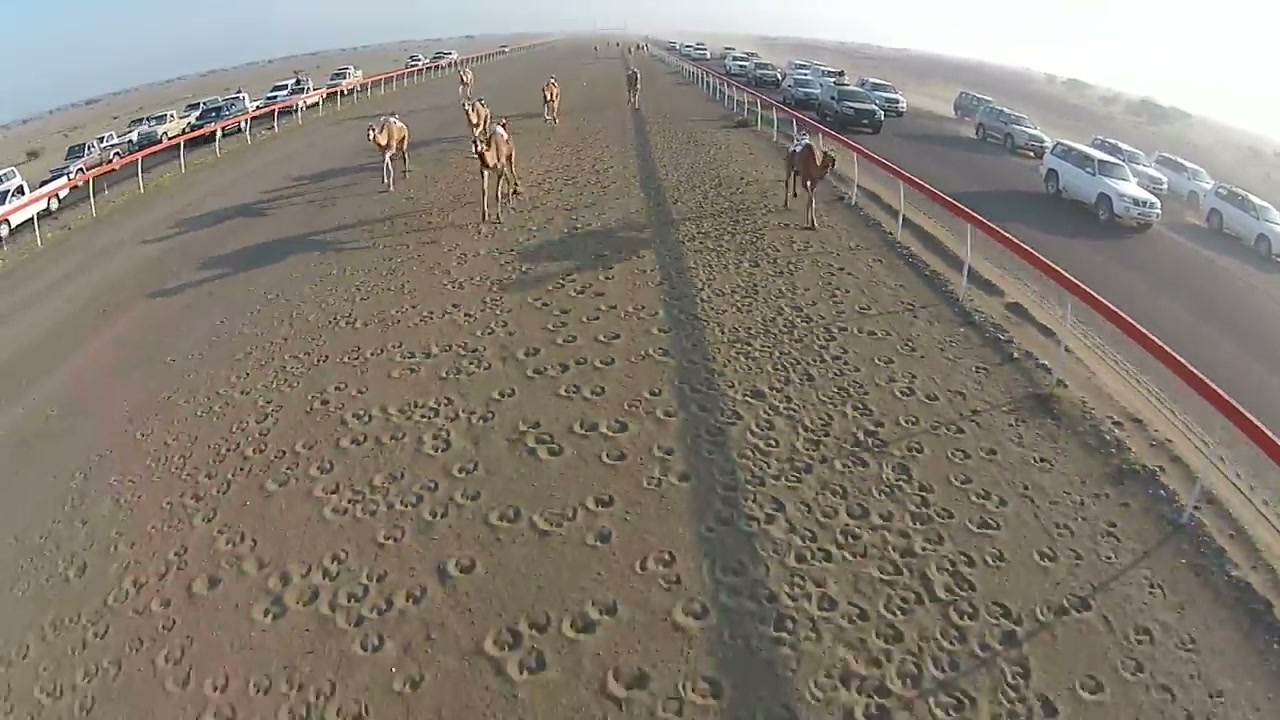animal_footprint: (0, 42, 1274, 718), (699, 241, 1115, 706), (126, 592, 277, 716), (255, 548, 426, 624), (479, 596, 623, 682), (313, 474, 442, 542), (321, 568, 431, 629), (274, 673, 385, 718), (483, 617, 550, 681), (753, 607, 818, 654), (603, 665, 654, 710), (382, 478, 446, 513), (152, 636, 194, 686), (636, 551, 683, 592), (270, 580, 336, 609), (885, 654, 929, 695), (503, 645, 550, 682), (708, 558, 767, 586), (482, 624, 528, 657), (699, 502, 745, 535), (530, 506, 582, 535), (678, 675, 726, 706), (671, 597, 713, 631), (322, 603, 369, 632), (310, 466, 347, 501), (361, 469, 407, 497), (560, 609, 601, 639), (523, 430, 565, 459), (214, 524, 256, 553), (641, 466, 693, 489), (508, 648, 546, 678), (392, 582, 430, 611), (635, 548, 677, 574), (872, 619, 906, 651), (969, 487, 1008, 514), (419, 427, 455, 456), (440, 555, 481, 580), (159, 665, 193, 695), (391, 665, 426, 694), (201, 668, 232, 700), (519, 608, 553, 636), (1058, 591, 1096, 616), (583, 596, 621, 620), (486, 504, 525, 527), (1075, 673, 1107, 701), (1123, 623, 1160, 647), (353, 630, 389, 654), (32, 680, 65, 706), (806, 590, 840, 615), (557, 383, 606, 400), (244, 673, 278, 697), (1096, 520, 1125, 547), (189, 573, 223, 596), (655, 694, 686, 719), (583, 492, 618, 514), (1031, 599, 1062, 623), (966, 514, 1003, 534), (1117, 656, 1146, 681), (263, 473, 297, 494), (450, 485, 483, 506), (376, 523, 407, 545), (928, 420, 968, 437), (1033, 692, 1060, 717), (585, 525, 615, 546), (374, 428, 409, 446), (600, 417, 630, 437), (1173, 632, 1198, 655), (321, 502, 351, 521), (450, 459, 480, 478), (307, 458, 335, 478), (148, 594, 174, 615), (1033, 545, 1059, 566), (571, 418, 601, 436), (600, 447, 629, 465), (1051, 520, 1075, 540), (947, 472, 975, 489), (646, 345, 674, 362), (651, 443, 677, 461), (1030, 453, 1055, 471), (947, 447, 973, 463), (516, 418, 542, 434), (516, 345, 543, 360), (490, 386, 517, 401), (595, 330, 622, 344), (897, 413, 920, 428), (654, 406, 678, 420), (642, 473, 663, 489)
